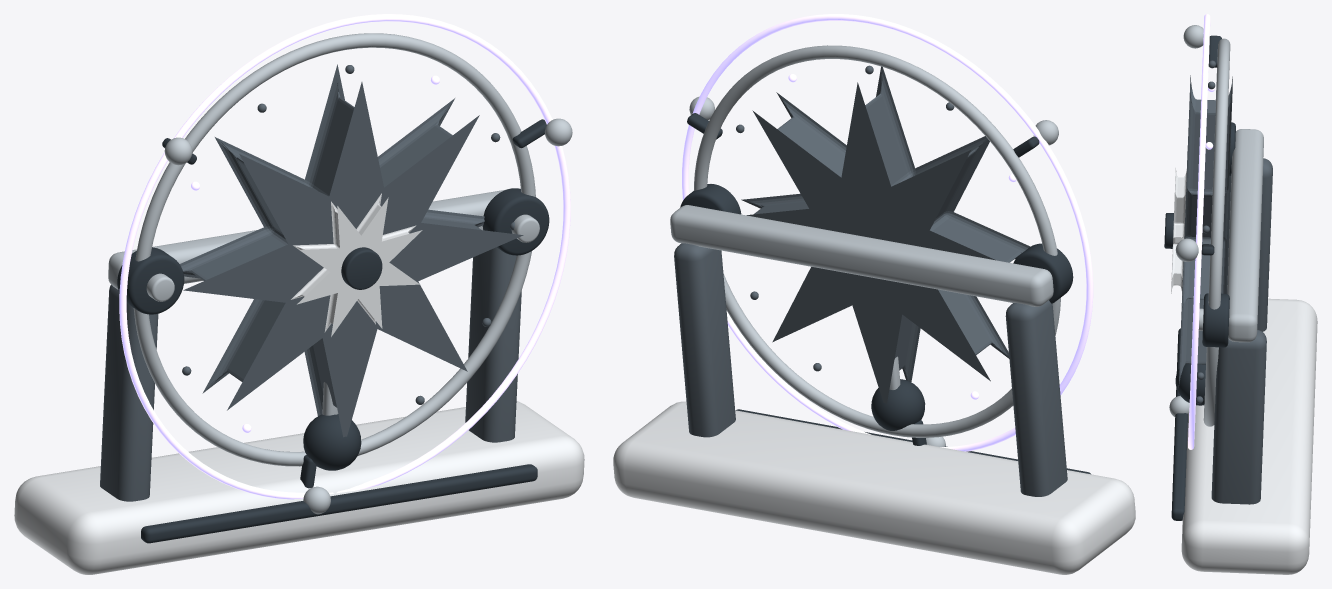
Rendered from stellar-star-compass.glb.
The picture shows the model from 3 angles, left to right: view 1: azimuth 30°, elevation 25°; view 2: azimuth 150°, elevation 25°; view 3: azimuth 270°, elevation 25°; orthographic projection. The views are drawn at different scales.
Visible parts, largest first — view 1: StarGraphiteBody, StarPlinth, StarCompassRing, StarLilacOrbit, StarSupport_L, StarSupport_R, StarPlinthInset, StarCeramicFacet, StarAxle, StarBearing_R, StarCounterweightMass, StarBearing_L (+1 smaller); view 2: StarPlinth, StarGraphiteBody, StarAxle, StarCompassRing, StarSupport_L, StarSupport_R, StarLilacOrbit, StarCounterweightMass, StarBearing_L, StarBearing_R; view 3: StarPlinth, StarSupport_R, StarAxle, StarGraphiteBody, StarCompassRing, StarLilacOrbit, StarSupport_L, StarPlinthInset, StarBearing_R, StarCeramicFacet, StarCounterweightMass, StarNode03 (+5 smaller).
Boxes of the visible parts, x1,y1,x2,y2 form: StarGraphiteBody: (179, 64, 523, 437); StarPlinth: (14, 401, 584, 574); StarCompassRing: (133, 33, 535, 466); StarLilacOrbit: (119, 14, 570, 499); StarSupport_L: (100, 285, 158, 501); StarSupport_R: (465, 247, 521, 442); StarPlinthInset: (141, 464, 537, 543); StarCeramicFacet: (291, 193, 422, 336); StarAxle: (108, 189, 505, 289); StarBearing_R: (482, 188, 549, 255); StarCounterweightMass: (303, 414, 361, 470); StarBearing_L: (117, 247, 184, 314); StarPlinth: (613, 401, 1135, 574); StarGraphiteBody: (741, 66, 1030, 403); StarAxle: (670, 205, 1053, 306); StarCompassRing: (694, 45, 1060, 437); StarSupport_L: (1005, 300, 1067, 496); StarSupport_R: (674, 243, 735, 437); StarLilacOrbit: (682, 14, 1093, 451); StarCounterweightMass: (871, 379, 925, 430); StarBearing_L: (1013, 243, 1073, 303); StarBearing_R: (680, 184, 741, 214); StarPlinth: (1181, 298, 1317, 574); StarSupport_R: (1211, 330, 1266, 504); StarAxle: (1227, 129, 1263, 342); StarGraphiteBody: (1178, 75, 1232, 388); StarCompassRing: (1203, 38, 1230, 426); StarLilacOrbit: (1188, 14, 1210, 449); StarSupport_L: (1225, 158, 1272, 331); StarPlinthInset: (1171, 328, 1187, 520); StarBearing_R: (1202, 293, 1229, 347); StarCeramicFacet: (1171, 168, 1186, 295); StarCounterweightMass: (1175, 364, 1205, 405); StarNode03: (1175, 238, 1198, 261).
Bounding box in the file's own units: 4.46 × 4.42 × 1.37.
